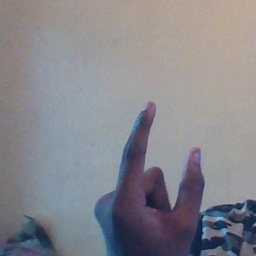U: (92, 97, 211, 256)
